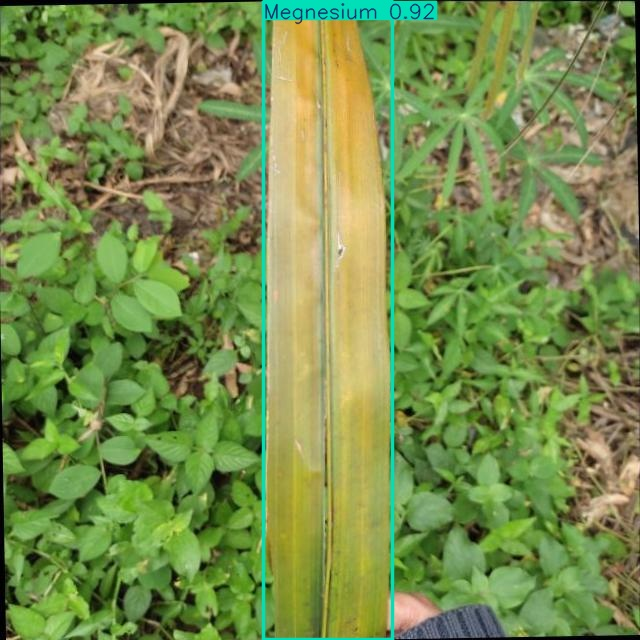Megnesium: (263, 1, 393, 640)
